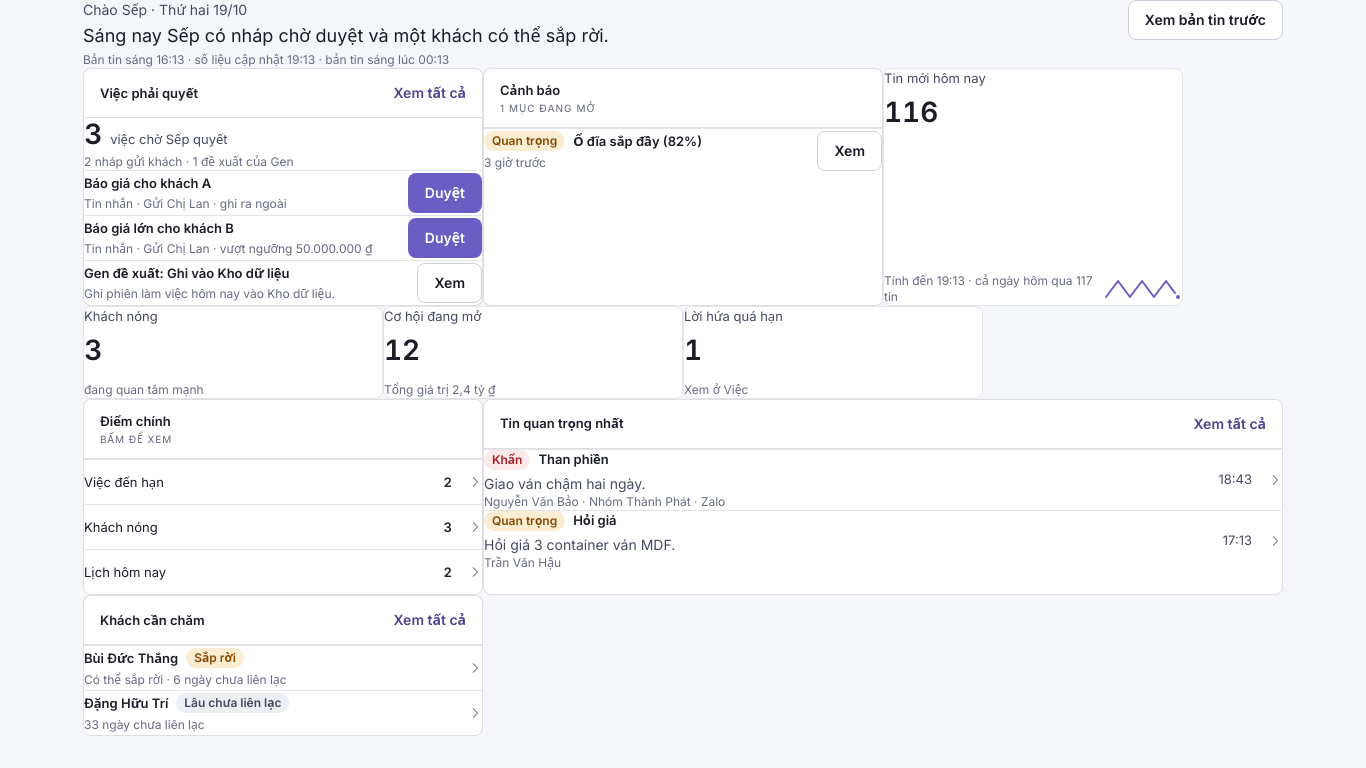
Scenario: Tình báo (/owner) › "Bản tin trước" mở danh sách lịch sử; chọn bản cũ gọi /owner/brief?id=
This screenshot has width=1366, height=768.
Expected: the heading "Sáng nay Sếp có nháp chờ duyệt và một khách có thể sắp rời." is shown, [83,24,609,48]
Click the button with test id "intel-brief-history" at (1205, 20), box [1128,0,1283,40]
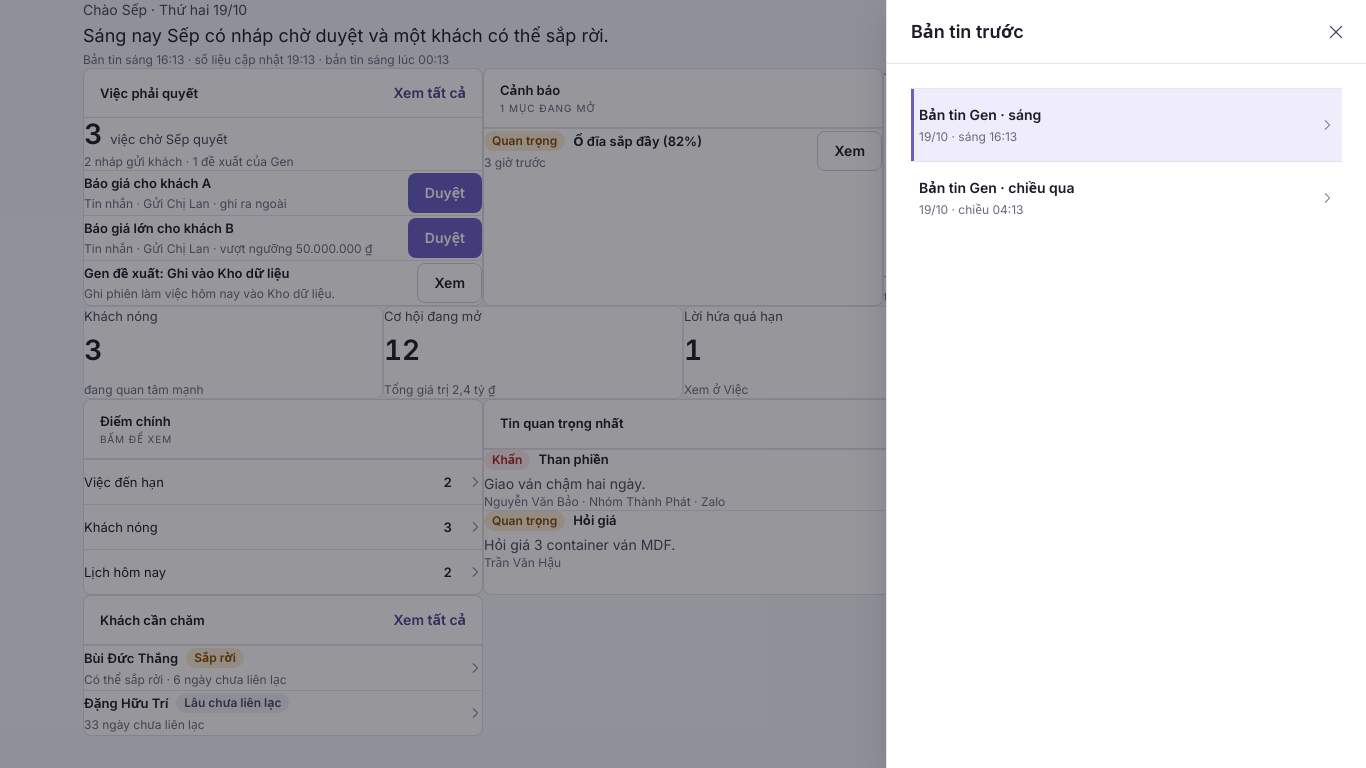
Click the text "Bản tin Gen · chiều qua" at (997, 188), box [919,179,1074,196]
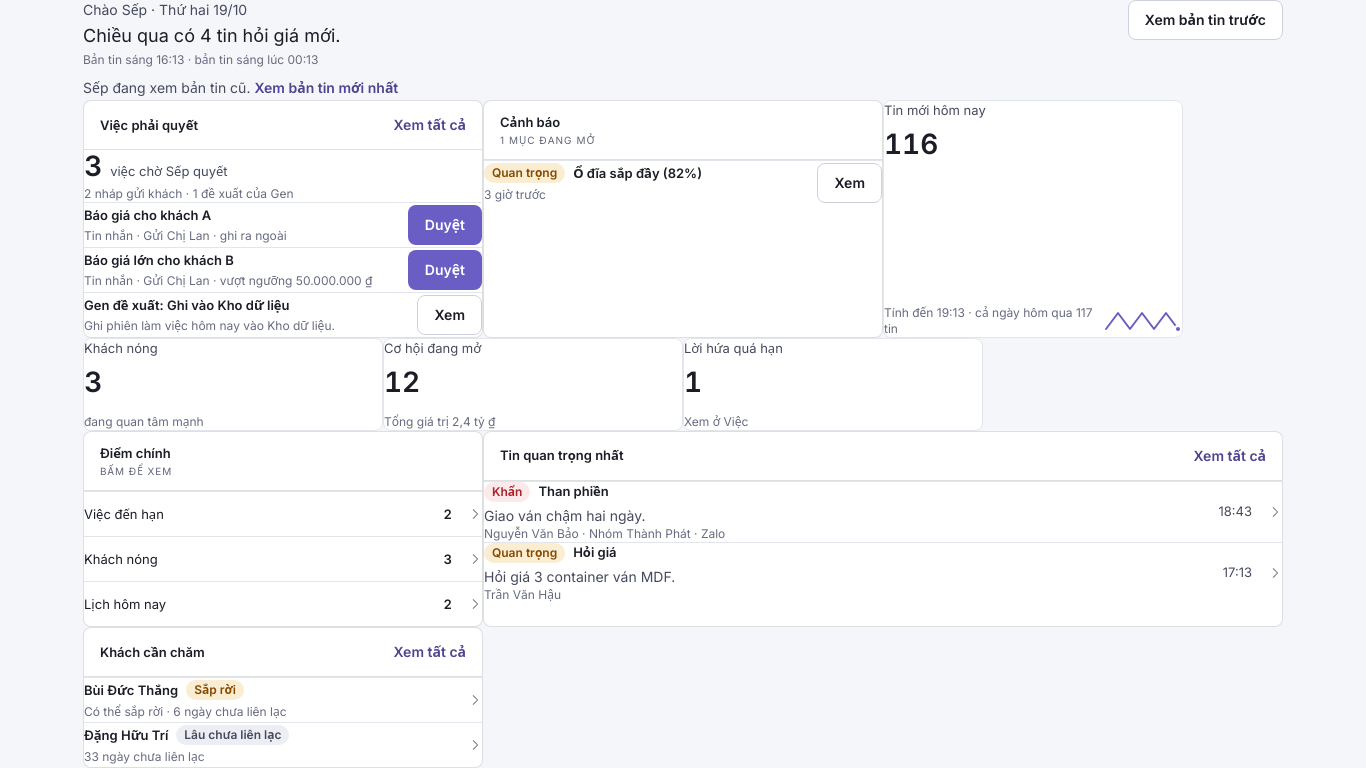
Result: the heading "Chiều qua có 4 tin hỏi giá mới." is shown at [83,24,340,48]
Result: the element with test id "intel-brief-old" is shown at [83,76,398,100]
Click the button "Xem bản tin mới nhất" at (326, 88), box [254,76,398,100]
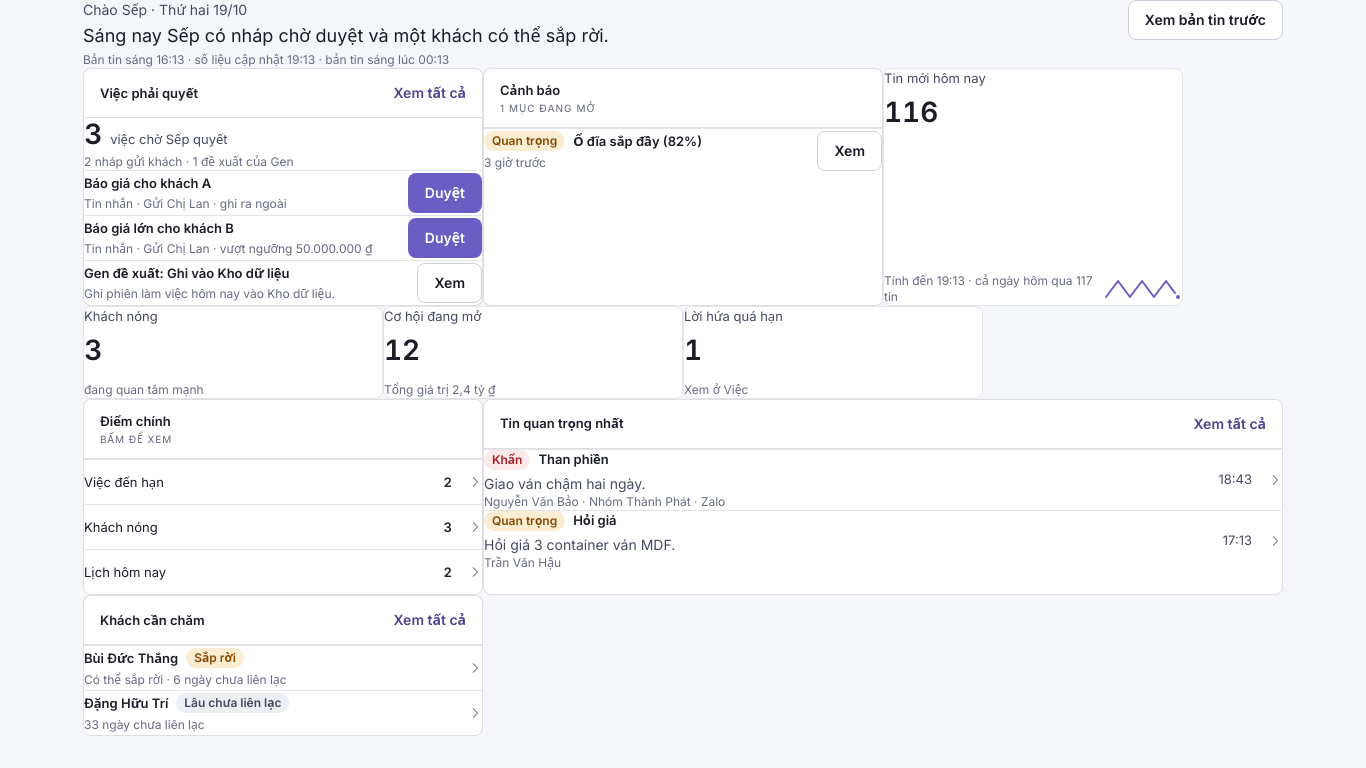
Result: the heading "Sáng nay Sếp có nháp chờ duyệt và một khách có thể sắp rời." is shown at [83,24,609,48]
